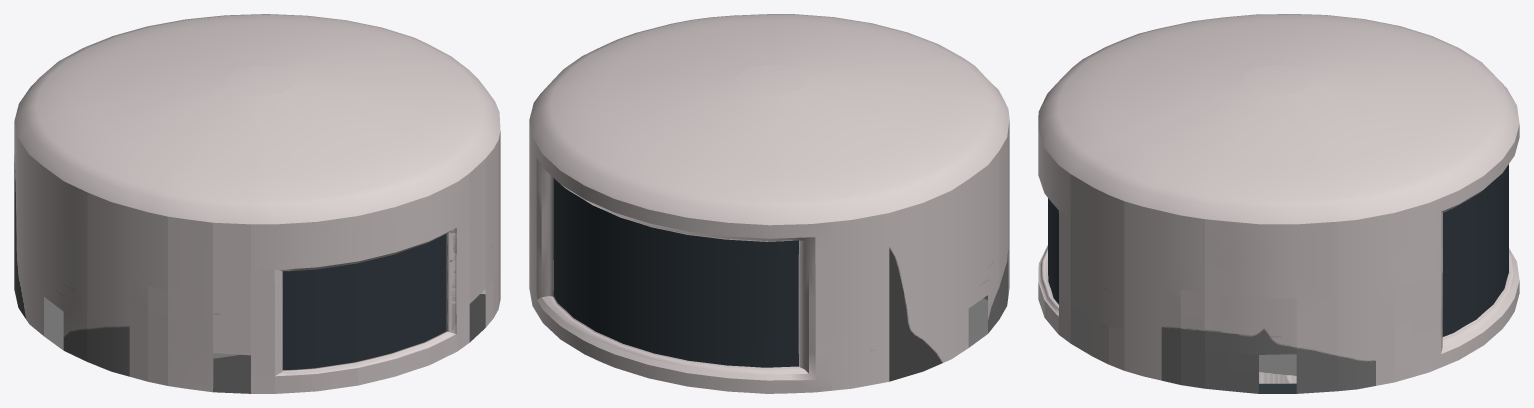
Rendered from Conference_Room_Flat_Floor.fbx.
The picture shows the model from 3 angles, left to right: view 1: azimuth 30°, elevation 25°; view 2: azimuth 150°, elevation 25°; view 3: azimuth 270°, elevation 25°; orthographic projection.
Parts seen in each view (by area): view 1: Conference_Building_Flat_Floor; view 2: Conference_Building_Flat_Floor; view 3: Conference_Building_Flat_Floor.
Boxes of the visible parts, box(x1,y1,x2,y2) form: Conference_Building_Flat_Floor: box(14, 14, 500, 393); Conference_Building_Flat_Floor: box(529, 14, 1009, 393); Conference_Building_Flat_Floor: box(1038, 14, 1519, 393).
Bounding box in the file's own units: 2431 × 1193 × 2435.
1 material, 1 textured.
